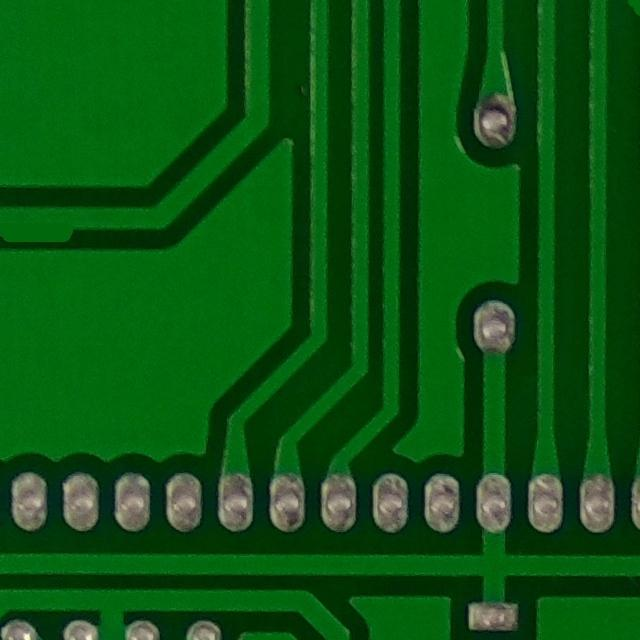spur: (0, 194, 87, 254)
